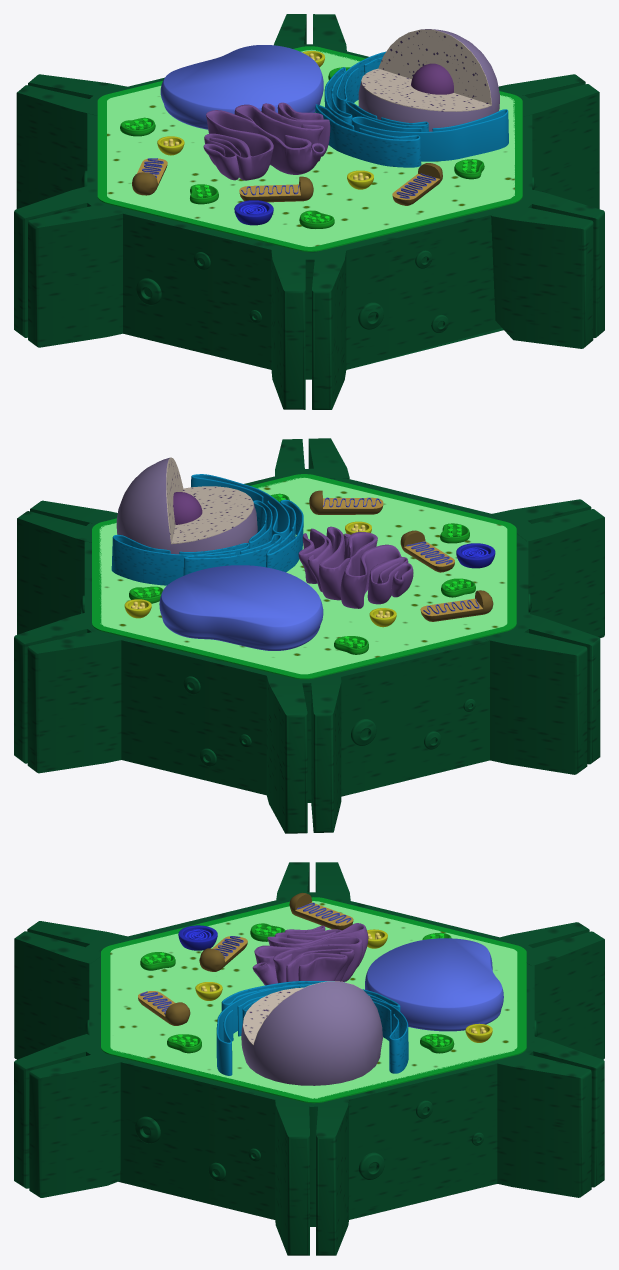
File: CelulaVegetalPartes.glb
The picture shows the model from 3 angles, top to bottom: view 1: azimuth 30°, elevation 25°; view 2: azimuth 150°, elevation 25°; view 3: azimuth 270°, elevation 25°; orthographic projection.
Visible parts, largest first — view 1: membrana_celular, citoplasma, nucleo, reticulo_endoplasmatico, vacuola, AparatoGolgi, membrana_plasmatica, mitocondira, cloroplasto, nucleolo, peroxisoma, amiloplasto; view 2: membrana_celular, citoplasma, vacuola, nucleo, reticulo_endoplasmatico, AparatoGolgi, membrana_plasmatica, mitocondira, cloroplasto, peroxisoma, amiloplasto, nucleolo; view 3: membrana_celular, citoplasma, nucleo, vacuola, membrana_plasmatica, AparatoGolgi, reticulo_endoplasmatico, mitocondira, cloroplasto, peroxisoma, amiloplasto.
Boxes of the visible parts, <box> form: membrana_celular: <box>14,14,604,409</box>; citoplasma: <box>107,49,514,246</box>; nucleo: <box>358,29,499,131</box>; reticulo_endoplasmatico: <box>315,51,508,167</box>; vacuola: <box>160,45,323,129</box>; AparatoGolgi: <box>203,102,330,180</box>; membrana_plasmatica: <box>97,46,522,251</box>; mitocondira: <box>132,158,442,205</box>; cloroplasto: <box>120,67,484,228</box>; nucleolo: <box>411,63,453,94</box>; peroxisoma: <box>157,51,373,189</box>; amiloplasto: <box>234,200,273,225</box>; membrana_celular: <box>14,438,604,833</box>; citoplasma: <box>99,477,507,674</box>; vacuola: <box>159,565,323,650</box>; nucleo: <box>116,457,257,554</box>; reticulo_endoplasmatico: <box>111,474,303,585</box>; AparatoGolgi: <box>298,526,413,608</box>; membrana_plasmatica: <box>92,474,516,679</box>; mitocondira: <box>309,490,493,621</box>; cloroplasto: <box>129,493,475,654</box>; peroxisoma: <box>124,521,396,627</box>; amiloplasto: <box>456,543,495,568</box>; nucleolo: <box>173,492,202,524</box>; membrana_celular: <box>14,862,604,1255</box>; citoplasma: <box>110,901,517,1098</box>; nucleo: <box>241,981,382,1085</box>; vacuola: <box>365,938,503,1031</box>; membrana_plasmatica: <box>101,897,526,1103</box>; AparatoGolgi: <box>252,923,368,985</box>; reticulo_endoplasmatico: <box>216,981,408,1075</box>; mitocondira: <box>138,892,353,1025</box>; cloroplasto: <box>140,923,454,1053</box>; peroxisoma: <box>195,929,492,1042</box>; amiloplasto: <box>178,925,217,950</box>.
Size of the model in its own units: 3.28 by 1.13 by 2.97.
Materials: 19 (4 with a texture image).
